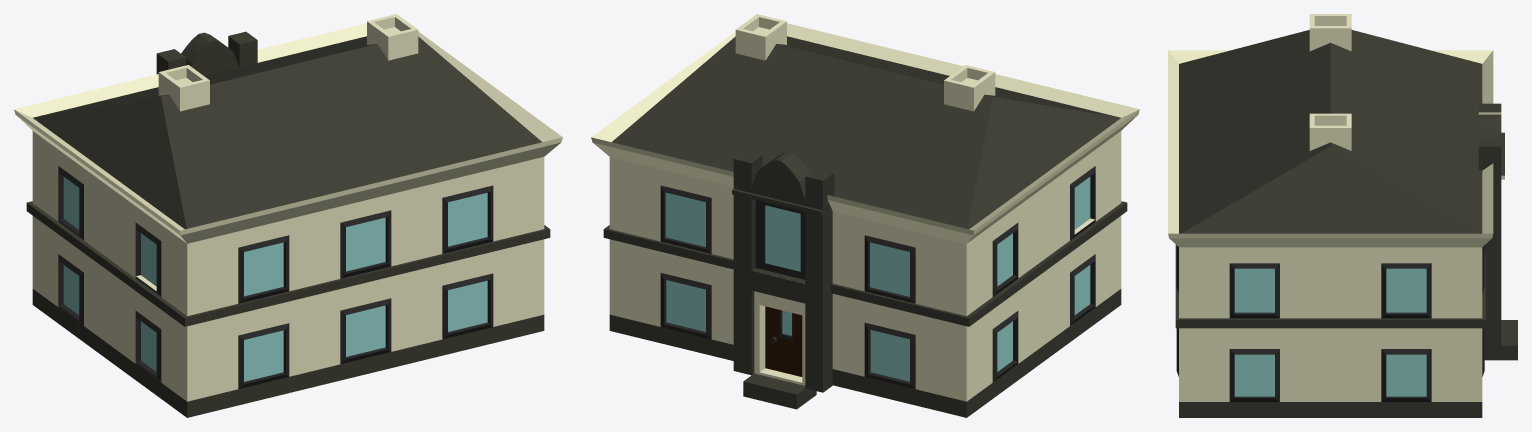
The model's file is pl_huis.FBX.
The picture shows the model from 3 angles, left to right: view 1: azimuth 30°, elevation 25°; view 2: azimuth 150°, elevation 25°; view 3: azimuth 270°, elevation 25°; orthographic projection. The views are drawn at different scales.
Parts seen in each view (by area): view 1: pCylinder3; view 2: pCylinder3; view 3: pCylinder3.
Part boxes in pixels (x1,y1,x2,y2): pCylinder3: (14,14,562,417); pCylinder3: (591,14,1139,417); pCylinder3: (1168,14,1517,417).
Size of the model in its own units: 4.29 by 3.02 by 3.46.
